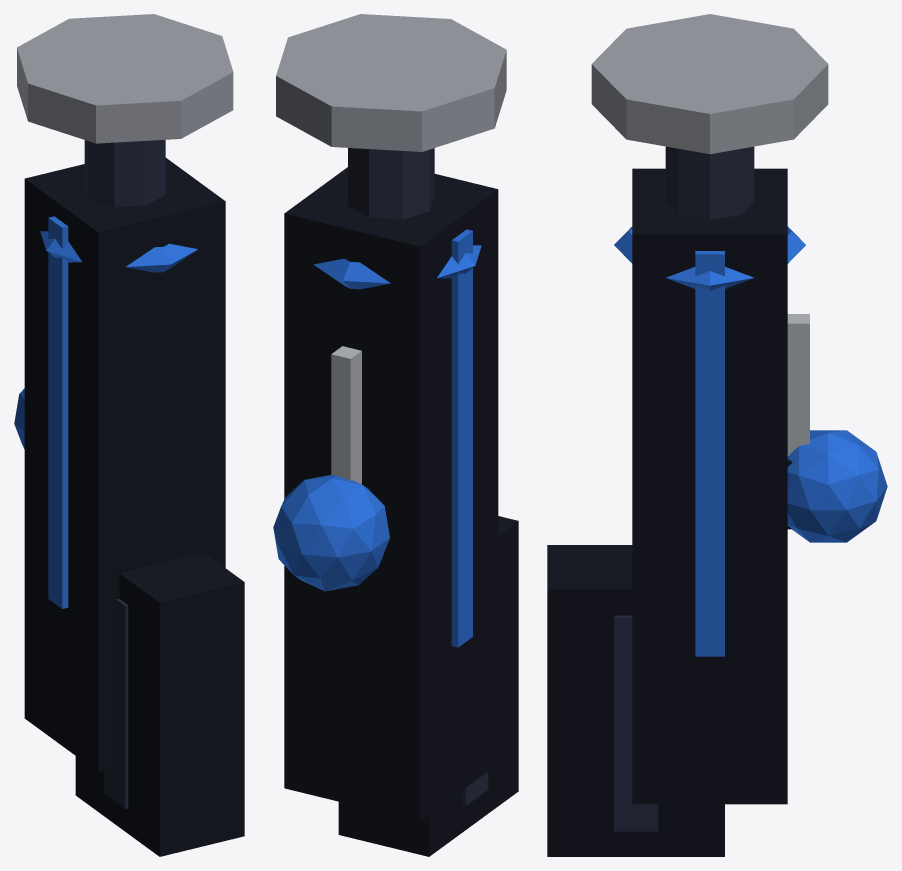
The model's file is gun_american_officer.glb.
3 views of the same model, side by side, from view 1: azimuth 30°, elevation 25°; view 2: azimuth 150°, elevation 25°; view 3: azimuth 270°, elevation 25° (orthographic). The views are drawn at different scales.
Visible parts, largest first — view 1: gun_american_officer; view 2: gun_american_officer; view 3: gun_american_officer.
Boxes of the visible parts, box(x1,y1,x2,y2) form: gun_american_officer: box(14, 14, 244, 856); gun_american_officer: box(273, 14, 518, 856); gun_american_officer: box(547, 14, 887, 856).
Bounding box in the file's own units: 0.16 × 0.575 × 0.23.
